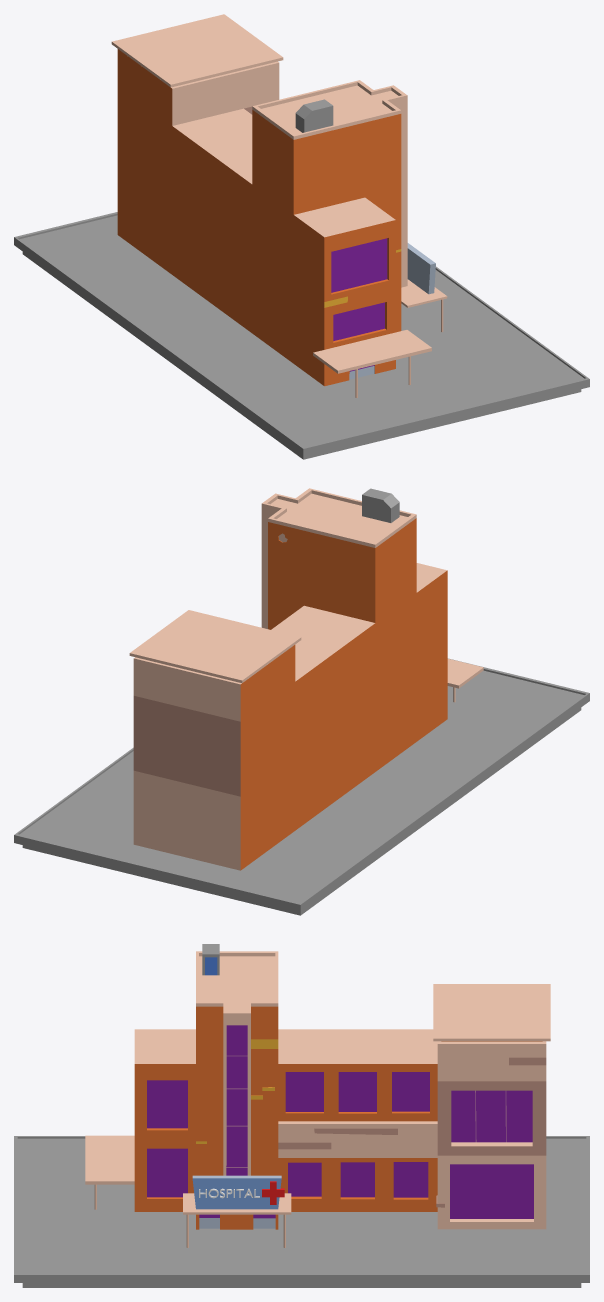
The model's file is hospital.glb.
3 views of the same model, one above another, from view 1: azimuth 30°, elevation 25°; view 2: azimuth 150°, elevation 25°; view 3: azimuth 270°, elevation 25° (orthographic).
Visible parts, largest first — view 1: Cube_0, Cube.002_7; view 2: Cube_0, Cube.002_7; view 3: Cube_0, Cube.002_7.
Part boxes in pixels (box(x1,y1,x2,y2)): Cube_0: box(111, 14, 447, 386); Cube.002_7: box(14, 212, 589, 459); Cube_0: box(129, 488, 483, 870); Cube.002_7: box(14, 658, 589, 915); Cube_0: box(85, 944, 550, 1229); Cube.002_7: box(14, 1136, 589, 1287).
Size of the model in its own units: 24 by 21.04 by 42.
